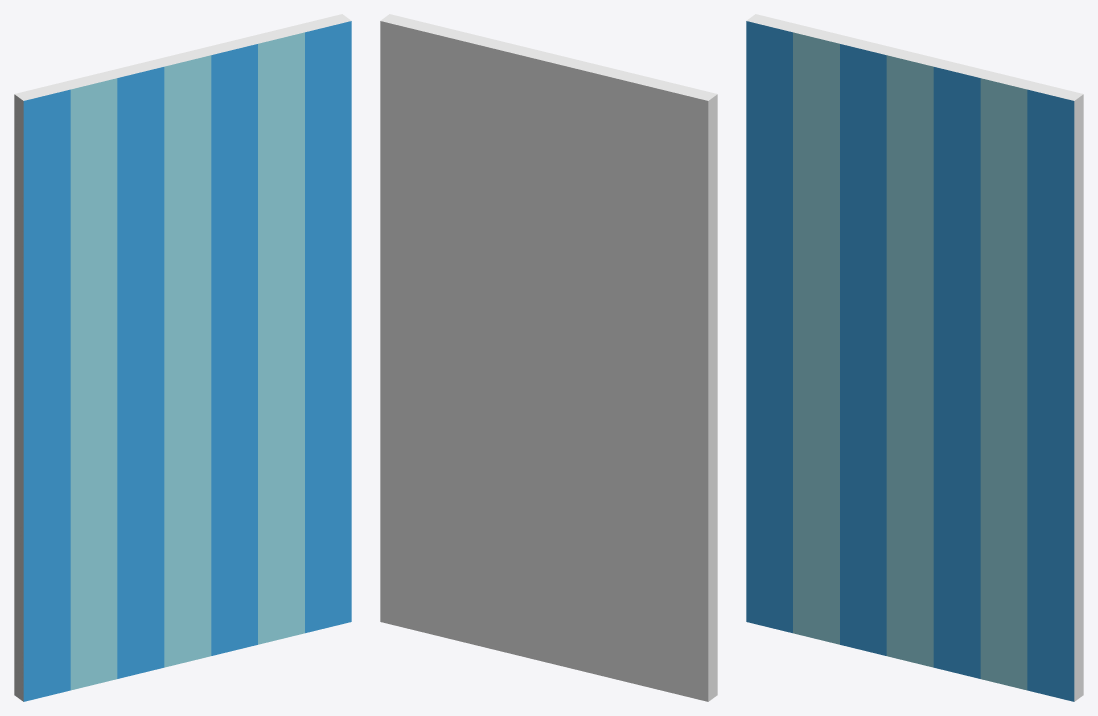
Rendered from Prop_Wall_02.fbx.
3 views of the same model, side by side, from view 1: azimuth 30°, elevation 25°; view 2: azimuth 150°, elevation 25°; view 3: azimuth 330°, elevation 25° (orthographic).
Parts seen in each view (by area): view 1: Prop_Wall_02; view 2: Prop_Wall_02; view 3: Prop_Wall_02.
Part boxes in pixels (x1,y1,x2,y2): Prop_Wall_02: (14, 14, 351, 701); Prop_Wall_02: (380, 14, 717, 701); Prop_Wall_02: (746, 14, 1083, 701).
Bounding box in the file's own units: 200 × 350 × 10.
